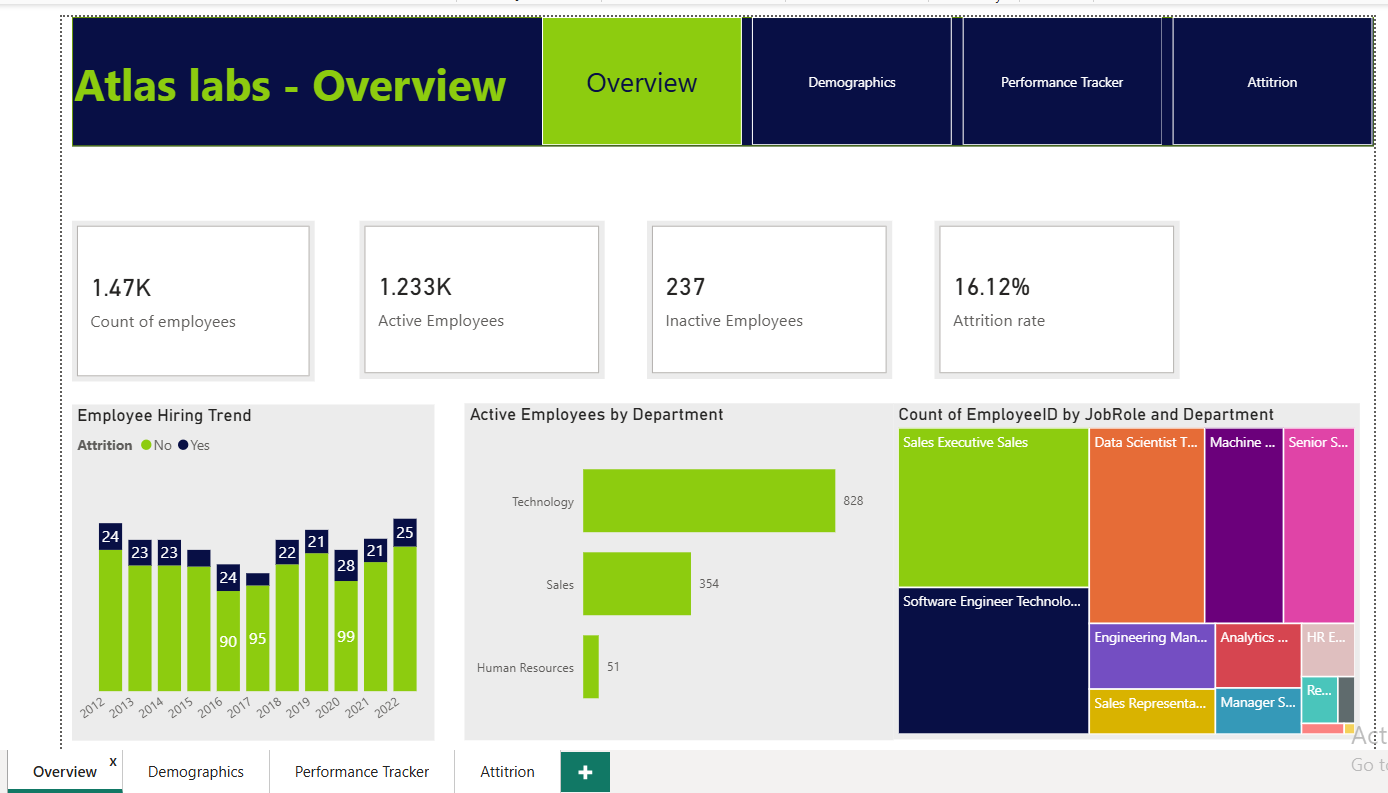

The page's visual inventory and layout, read from the dashboard file:
{"tool":"powerbi","page":{"name":"Overview","canvas":[1280,720],"ordinal":0},"visuals":[{"type":"shape","box":[9.6,0,1270.7,126.2],"z":0},{"type":"pageNavigator","box":[468.2,0,811.7,125.9],"z":1000},{"type":"cardVisual","fields":{"Data":["Count(Employee.EmployeeID)"]},"box":[9.8,199.3,237,157],"z":2000},{"type":"cardVisual","fields":{"Data":["Employee.Attrition rate"]},"box":[850.8,199.3,239.6,154],"z":3000},{"type":"cardVisual","fields":{"Data":["Count(Employee.EmployeeID)"]},"box":[570.5,199.3,239.6,154],"z":4000},{"type":"cardVisual","fields":{"Data":["Count(Employee.EmployeeID)"]},"box":[290.1,199.3,239.6,154],"z":5000},{"type":"columnChart","title":"Employee Hiring Trend","fields":{"Category":["Employee.HireDate.Variation.Date Hierarchy.Year"],"Y":["CountNonNull(Employee.EmployeeID)"],"Series":["Employee.Attrition"]},"box":[9.8,377.7,353.3,327.6],"z":6000},{"type":"barChart","title":"Active Employees by Department","fields":{"Category":["Employee.Department"],"Y":["CountNonNull(Employee.EmployeeID)"]},"box":[392.4,376.5,418.1,328.8],"z":7000},{"type":"treemap","fields":{"Group":["Employee.JobRole","Employee.Department"],"Values":["CountNonNull(Employee.EmployeeID)"]},"box":[811,377.4,455.6,328],"z":8000}]}

Visuals, with their boxes on the page's 1280x720 design canvas (x1, y1, x2, y2). These are canvas units, not pixel positions in the 1388x793 screenshot, which may show the page scaled, cropped or inside an application window:
shape: select_region(10, 0, 1280, 126)
pageNavigator: select_region(468, 0, 1280, 126)
cardVisual - Count(Employee.EmployeeID): select_region(10, 199, 247, 356)
cardVisual - Employee.Attrition rate: select_region(851, 199, 1090, 353)
cardVisual - Count(Employee.EmployeeID): select_region(570, 199, 810, 353)
cardVisual - Count(Employee.EmployeeID): select_region(290, 199, 530, 353)
"Employee Hiring Trend" columnChart: select_region(10, 378, 363, 705)
"Active Employees by Department" barChart: select_region(392, 376, 810, 705)
treemap - Employee.JobRole x Employee.Department: select_region(811, 377, 1267, 705)
